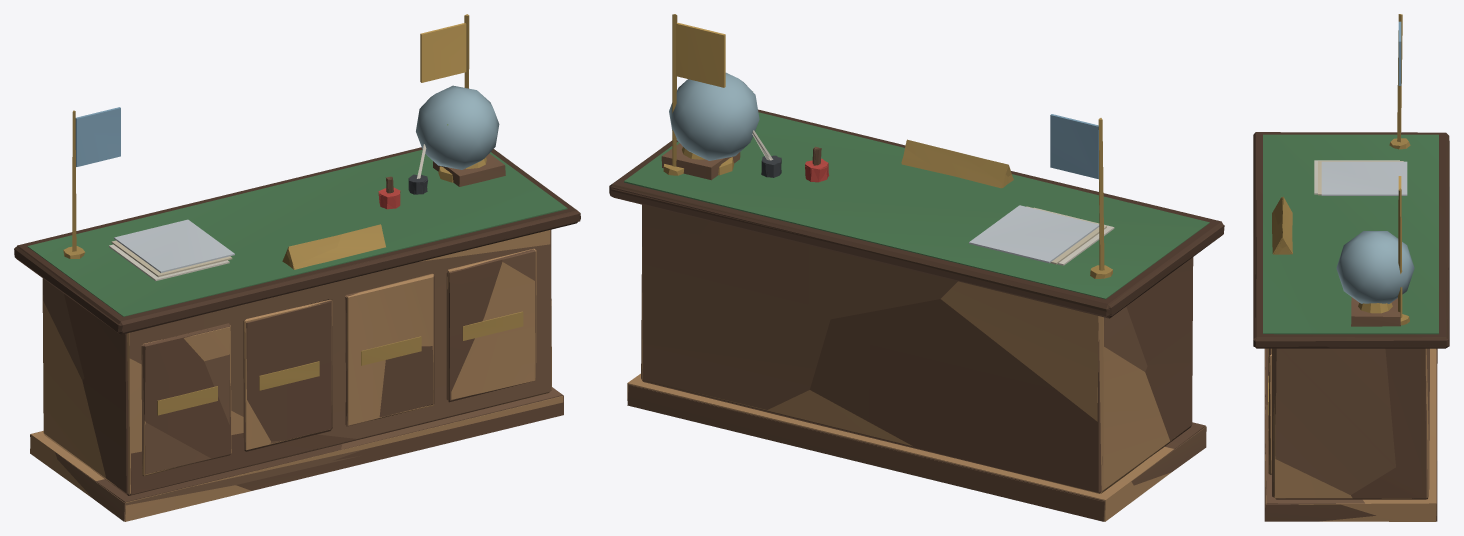
Rendered from townhall.desk.glb.
The picture shows the model from 3 angles, left to right: view 1: azimuth 30°, elevation 25°; view 2: azimuth 150°, elevation 25°; view 3: azimuth 270°, elevation 25°; orthographic projection. The views are drawn at different scales.
Visible parts, largest first — view 1: townhall.desk.v2.mesh, townhall.desk.v0.mesh, townhall.desk.v1.mesh; view 2: townhall.desk.v0.mesh, townhall.desk.v2.mesh, townhall.desk.v1.mesh; view 3: townhall.desk.v2.mesh, townhall.desk.v1.mesh, townhall.desk.v0.mesh.
Part boxes in pixels (x1,y1,x2,y2): townhall.desk.v2.mesh: (14,146,580,521); townhall.desk.v0.mesh: (14,14,579,502); townhall.desk.v1.mesh: (14,85,580,521); townhall.desk.v0.mesh: (611,14,1224,521); townhall.desk.v2.mesh: (611,109,1223,521); townhall.desk.v1.mesh: (609,72,1224,501); townhall.desk.v2.mesh: (1253,134,1448,521); townhall.desk.v1.mesh: (1253,141,1449,510); townhall.desk.v0.mesh: (1253,14,1449,521).
Bounding box in the file's own units: 2 × 1.45 × 0.8039.
